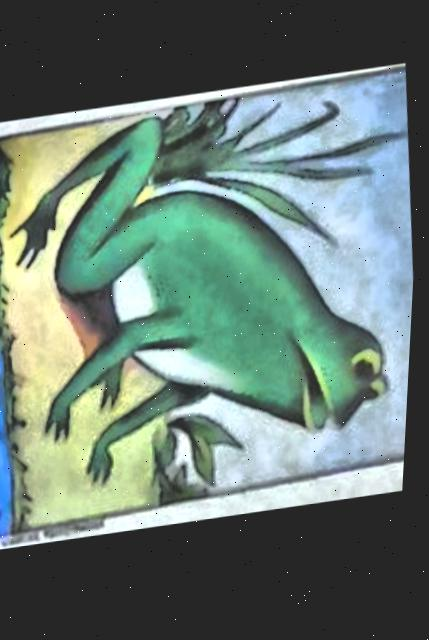La Rana: (0, 76, 416, 536)
